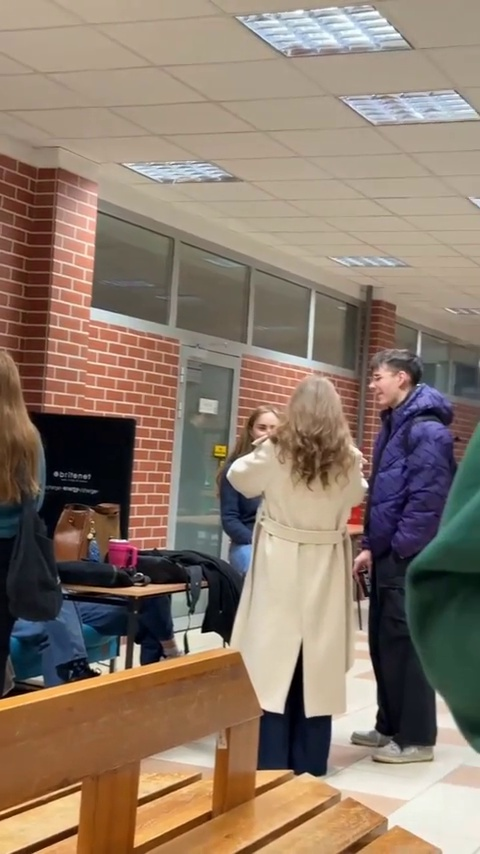no vest: (224, 374, 355, 727), (362, 340, 459, 727), (0, 344, 59, 699)
